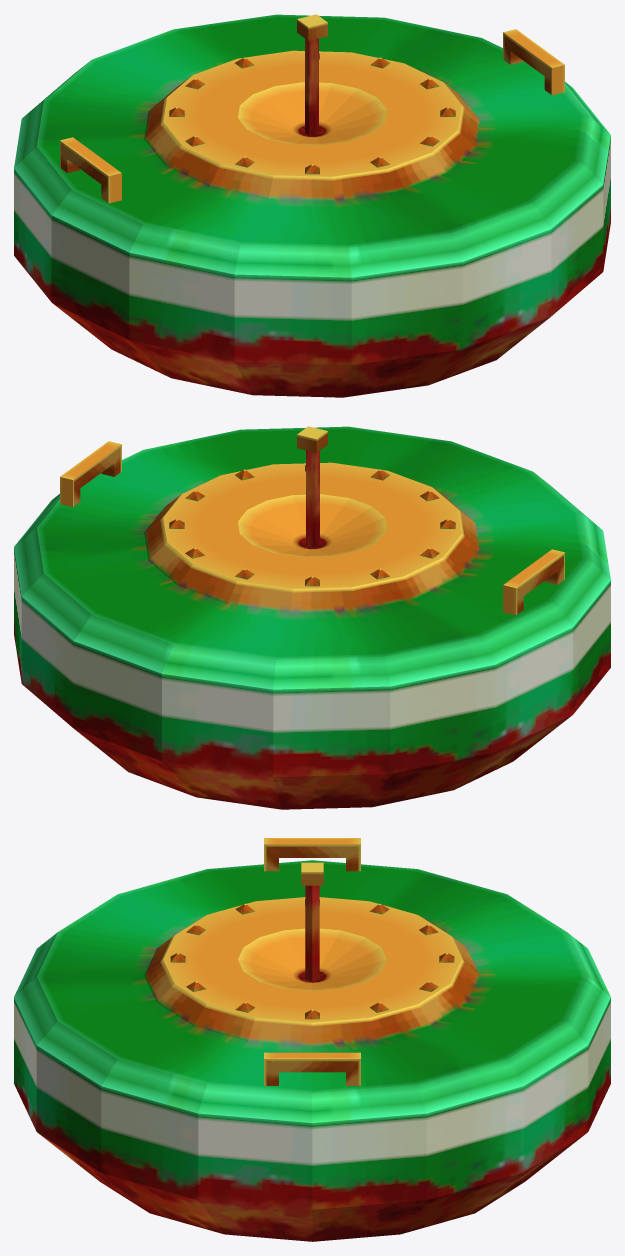
File: buoy_bake.dae
3 renders of one model, top to bottom at view 1: azimuth 30°, elevation 25°; view 2: azimuth 150°, elevation 25°; view 3: azimuth 270°, elevation 25°, orthographic.
Visible parts, largest first — view 1: m0; view 2: m0; view 3: m0.
Part boxes in pixels (x1,y1,x2,y2): m0: (14,14,610,397); m0: (14,426,610,809); m0: (14,838,610,1241).
Size of the model in its own units: 400 by 205 by 400.
Materials: 2 (2 with a texture image).
